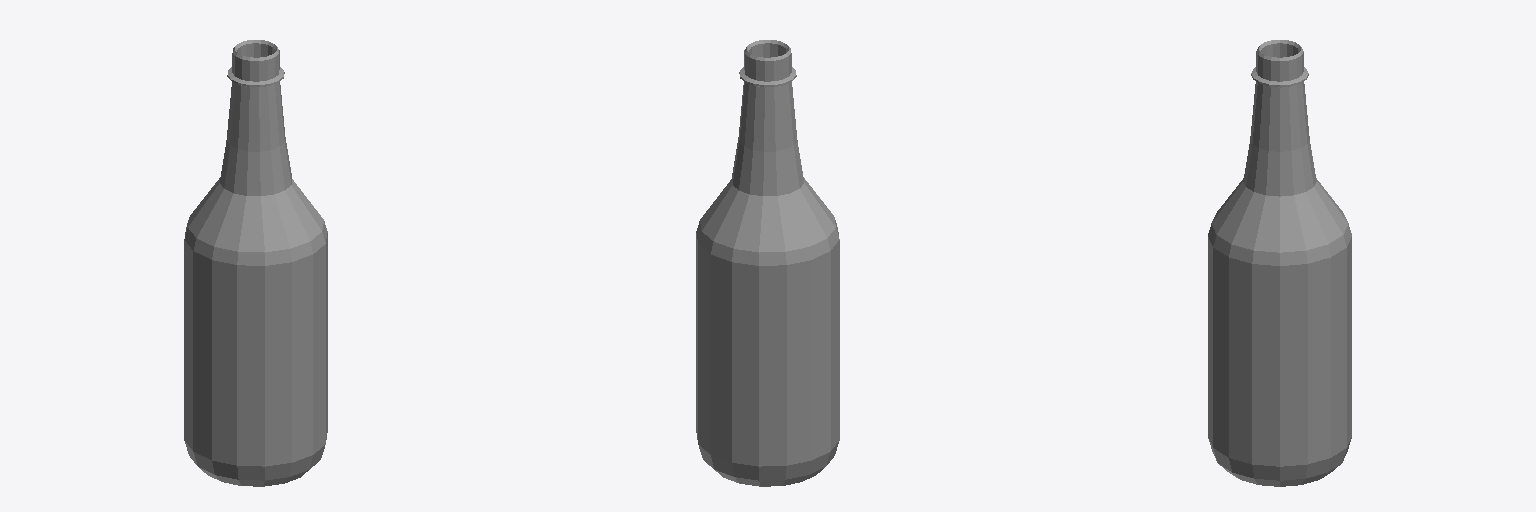
The model's file is water.obj.
3 views of the same model, side by side, from view 1: azimuth 30°, elevation 25°; view 2: azimuth 150°, elevation 25°; view 3: azimuth 270°, elevation 25° (orthographic).
Visible parts, largest first — view 1: Water_Cylinder.001; view 2: Water_Cylinder.001; view 3: Water_Cylinder.001.
Part boxes in pixels (bbox=[...]): Water_Cylinder.001: bbox=[184, 40, 327, 486]; Water_Cylinder.001: bbox=[696, 40, 839, 486]; Water_Cylinder.001: bbox=[1208, 40, 1351, 486].
Bounding box in the file's own units: 0.0982 × 0.3108 × 0.0982.